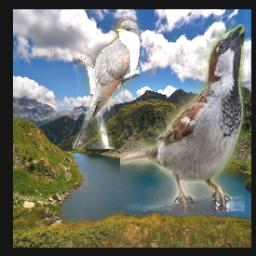Cuckoo: (73, 19, 140, 149)
Sparrow: (120, 25, 245, 212)
